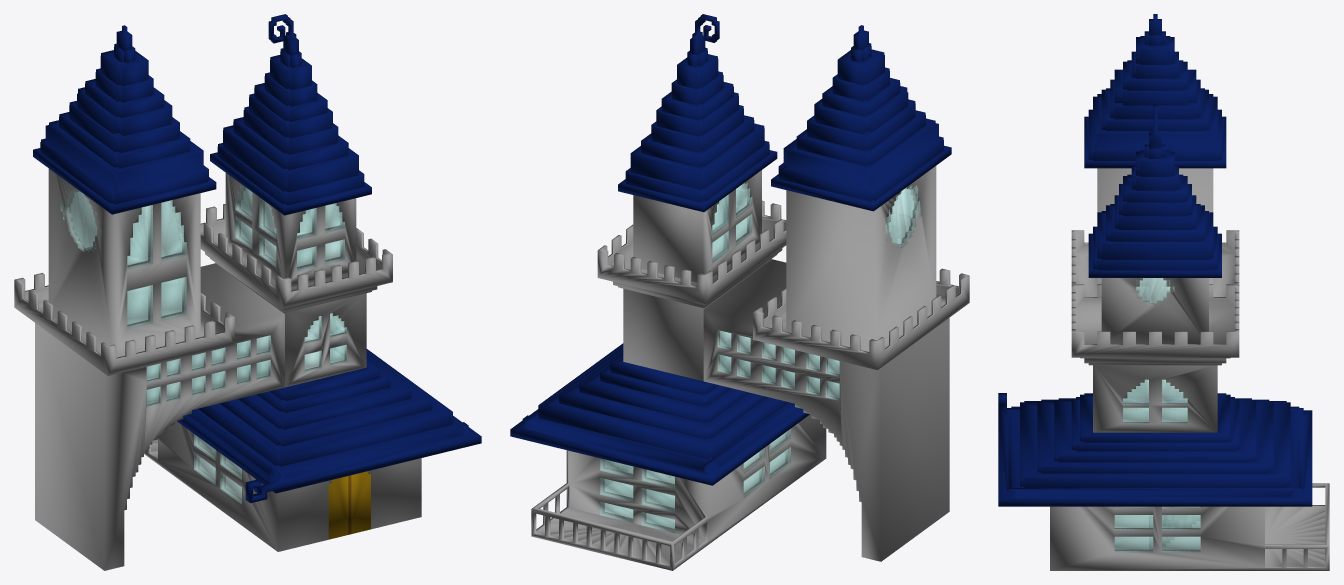
Rendered from Castle.fbx.
3 renders of one model, left to right at view 1: azimuth 30°, elevation 25°; view 2: azimuth 150°, elevation 25°; view 3: azimuth 270°, elevation 25°, orthographic. The views are drawn at different scales.
Visible parts, largest first — view 1: betto, yane1, yane2, glass, 2kai, sita, 3kai, naka, door; view 2: betto, yane1, yane2, sita, 2kai, glass, 3kai, naka; view 3: yane2, yane1, sita, 2kai, 3kai, glass, betto, naka.
Part boxes in pixels (x1,y1,x2,y2): betto: [14, 168, 284, 570]; yane1: [33, 14, 371, 215]; yane2: [177, 349, 481, 503]; glass: [60, 185, 346, 504]; 2kai: [200, 204, 392, 387]; sita: [144, 421, 421, 551]; 3kai: [225, 173, 356, 286]; naka: [71, 188, 343, 501]; door: [328, 471, 370, 539]; betto: [703, 166, 969, 561]; yane1: [618, 14, 951, 212]; yane2: [510, 343, 809, 485]; sita: [531, 414, 826, 570]; 2kai: [597, 200, 786, 381]; glass: [600, 182, 921, 533]; 3kai: [633, 170, 761, 282]; naka: [605, 186, 913, 527]; yane2: [998, 393, 1312, 506]; yane1: [1084, 14, 1226, 277]; sita: [1050, 483, 1329, 570]; 2kai: [1071, 284, 1239, 432]; 3kai: [1101, 278, 1208, 343]; glass: [1114, 278, 1200, 552]; betto: [1071, 168, 1239, 297]; naka: [1115, 278, 1200, 549].
Bounding box in the file's own units: 682 × 990 × 657.
